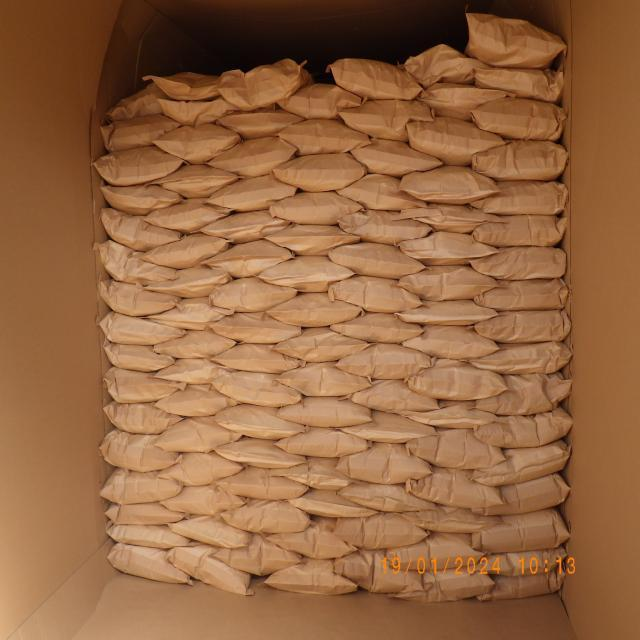gunny_bag: (464, 10, 566, 70), (215, 56, 311, 112), (406, 115, 502, 165), (336, 97, 436, 143), (474, 438, 570, 485), (329, 56, 424, 102), (332, 551, 428, 596), (471, 138, 567, 183), (408, 358, 508, 401), (336, 443, 433, 486), (473, 374, 572, 416), (167, 544, 250, 594), (473, 511, 569, 554), (407, 466, 504, 508), (469, 99, 566, 141), (474, 473, 570, 515), (326, 273, 423, 314), (328, 240, 426, 280), (405, 433, 508, 471), (106, 542, 192, 587), (405, 43, 489, 89), (205, 136, 296, 178), (98, 429, 182, 474), (336, 342, 430, 382), (418, 82, 514, 121), (400, 166, 493, 206), (259, 256, 356, 294), (99, 208, 182, 252), (476, 411, 574, 448), (273, 154, 368, 192), (96, 240, 176, 285), (348, 139, 442, 177), (335, 512, 429, 550), (384, 536, 486, 571), (153, 124, 242, 164), (93, 147, 184, 186), (472, 341, 573, 376), (270, 190, 365, 227), (212, 370, 304, 408), (214, 403, 306, 441), (337, 479, 436, 514), (266, 292, 362, 328), (342, 410, 438, 446), (208, 174, 298, 212), (204, 240, 294, 278), (267, 522, 357, 560), (400, 328, 500, 362), (472, 65, 566, 101), (338, 211, 432, 247), (264, 561, 360, 596), (210, 276, 298, 314), (340, 174, 428, 212), (276, 118, 368, 154), (402, 266, 494, 302), (274, 329, 368, 364), (276, 362, 370, 397), (346, 379, 440, 414), (143, 232, 229, 270), (153, 162, 239, 200), (276, 84, 362, 122), (476, 566, 566, 602), (470, 182, 567, 215), (98, 278, 182, 316), (211, 436, 307, 469), (211, 312, 304, 346), (215, 468, 308, 502), (474, 311, 572, 343), (155, 417, 244, 452), (99, 467, 183, 504), (218, 501, 312, 534), (269, 224, 360, 258), (396, 298, 499, 328), (402, 231, 490, 266), (142, 199, 232, 233), (402, 505, 504, 535), (105, 82, 176, 125), (329, 312, 424, 344), (200, 210, 292, 243), (168, 514, 252, 550), (99, 310, 183, 346), (276, 428, 370, 460), (103, 365, 180, 404), (146, 296, 234, 330), (287, 488, 380, 520), (398, 572, 494, 603), (472, 216, 568, 247), (473, 248, 566, 280), (211, 343, 306, 374), (278, 398, 372, 429), (214, 106, 305, 138), (406, 201, 494, 234), (212, 544, 302, 576), (102, 400, 182, 436), (474, 281, 570, 311), (162, 483, 246, 517), (154, 384, 238, 418), (158, 452, 244, 484), (99, 183, 182, 216), (102, 116, 182, 150), (148, 266, 232, 298), (281, 458, 360, 491), (104, 522, 192, 550), (156, 97, 237, 127), (401, 406, 502, 430), (154, 330, 236, 359), (144, 72, 224, 101), (153, 358, 234, 386), (104, 340, 174, 372), (477, 548, 568, 572), (106, 502, 186, 526)
